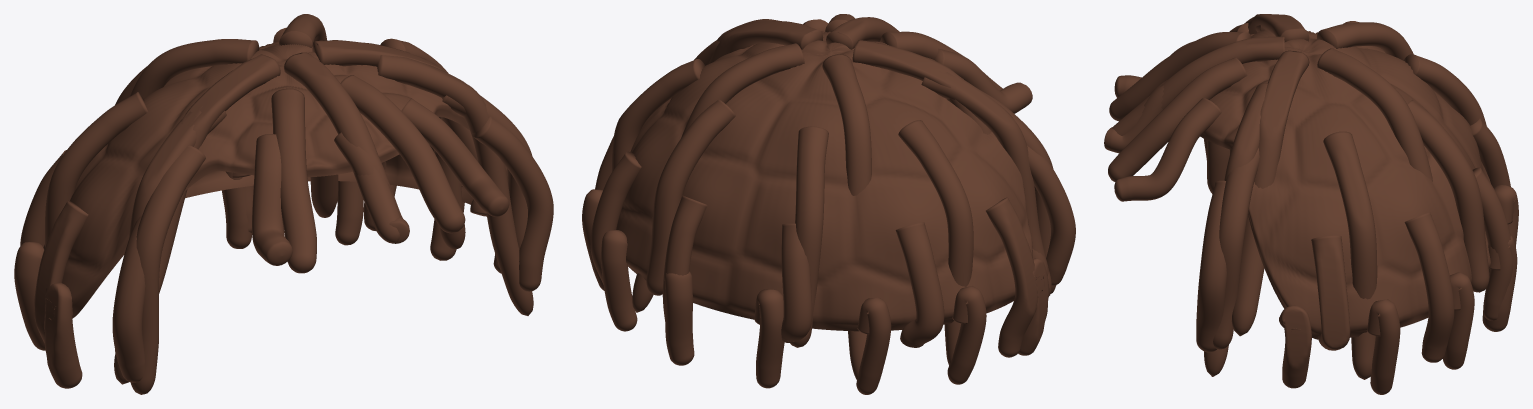
File: Masculine-locs-pashmina252-hair.glb
3 renders of one model, left to right at view 1: azimuth 30°, elevation 25°; view 2: azimuth 150°, elevation 25°; view 3: azimuth 270°, elevation 25°, orthographic. The views are drawn at different scales.
Visible parts, largest first — view 1: 226 hair / Hair252 / sectioned locs.001; view 2: 226 hair / Hair252 / sectioned locs.001; view 3: 226 hair / Hair252 / sectioned locs.001.
Part boxes in pixels (x1,y1,x2,y2): 226 hair / Hair252 / sectioned locs.001: (14,14,553,394); 226 hair / Hair252 / sectioned locs.001: (582,14,1075,394); 226 hair / Hair252 / sectioned locs.001: (1104,14,1518,394).
Size of the model in its own units: 1.07 by 0.6347 by 0.8956.
